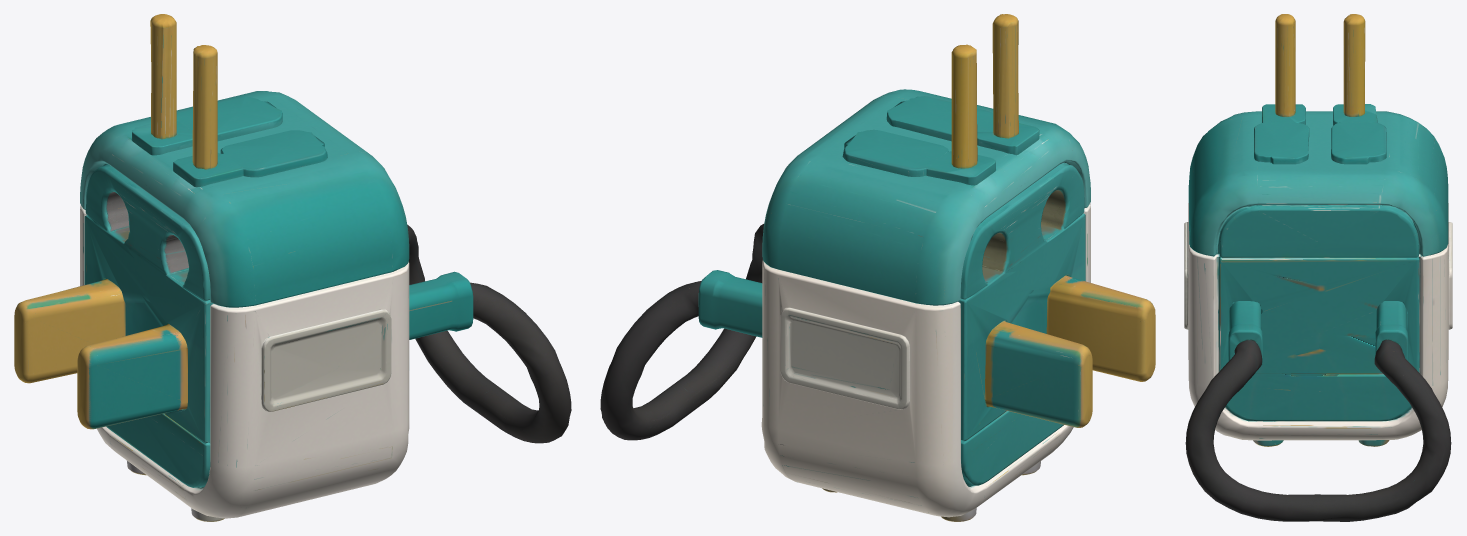
The model's file is plug2.glb.
3 views of the same model, side by side, from view 1: azimuth 30°, elevation 25°; view 2: azimuth 150°, elevation 25°; view 3: azimuth 270°, elevation 25° (orthographic). The views are drawn at different scales.
Size of the model in its own units: 0.9521 by 0.9136 by 0.5854.
1 material, 1 textured.
